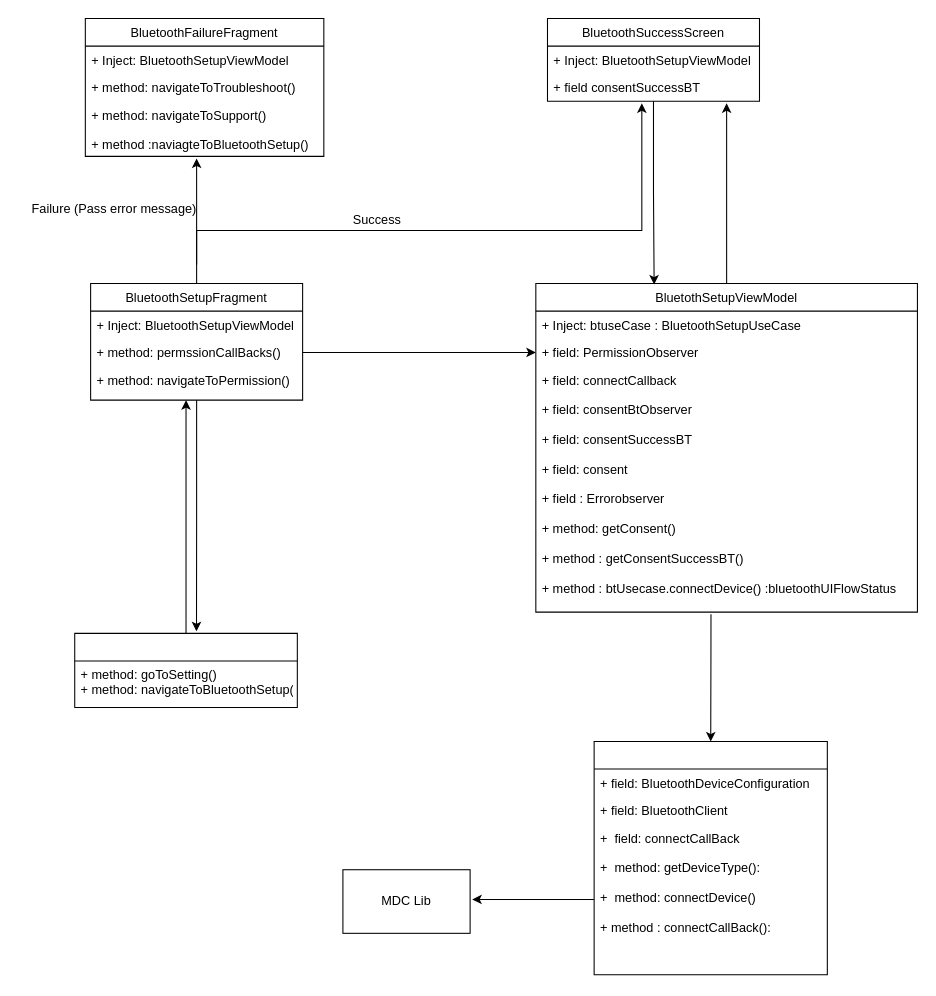
Some shapes in this 936 by 996 pixel diagram are drawn without their labels. The shapes that lost their labels are listed below. From the top down, each one's box as (x1, y1, x2, y2) in pixels, then its label:
(74, 632, 297, 708): BluetoothpermissionFragment
(593, 740, 827, 975): BluetoothSetupuseCase
